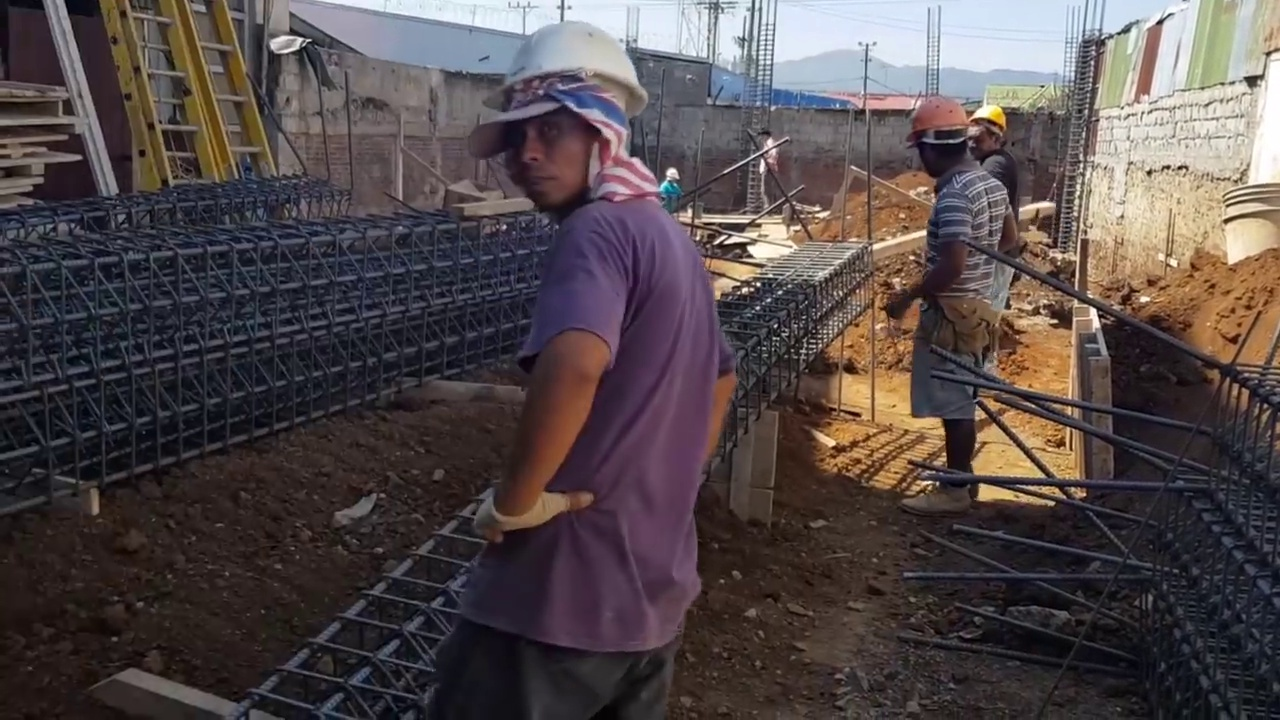helmet: (466, 6, 648, 119), (907, 96, 966, 143), (968, 105, 1009, 135), (665, 166, 680, 179)
helmet-off: (756, 126, 772, 143)
helmet-on: (470, 5, 646, 219), (907, 94, 973, 182), (967, 105, 1008, 161), (664, 165, 681, 185)
person: (423, 12, 743, 714), (897, 95, 1018, 523), (967, 104, 1023, 327), (756, 127, 780, 221), (657, 162, 682, 211)
